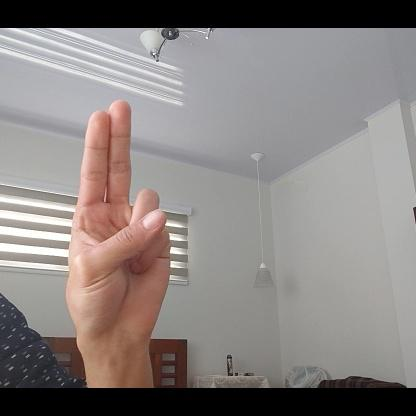U: (65, 98, 172, 355)
